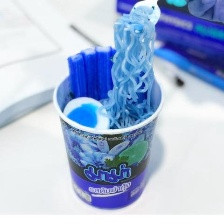paper_cup: (47, 65, 168, 214)
